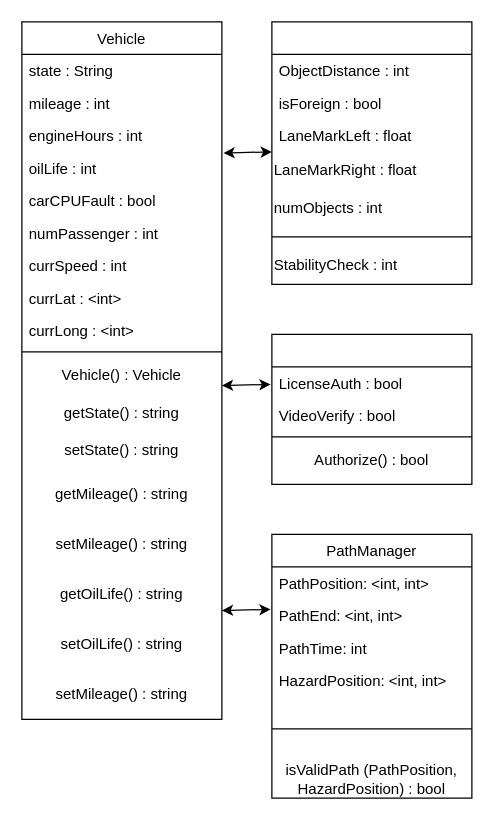
Some shapes in this 494 by 820 pixel diagram are drawn without their labels. The shapes that lost their labels are listed below. From the top down, each one's box as (x1, y1, x2, y2) in pixels, then its label:
(271, 21, 472, 284): SensorCamera
(271, 333, 472, 484): User
